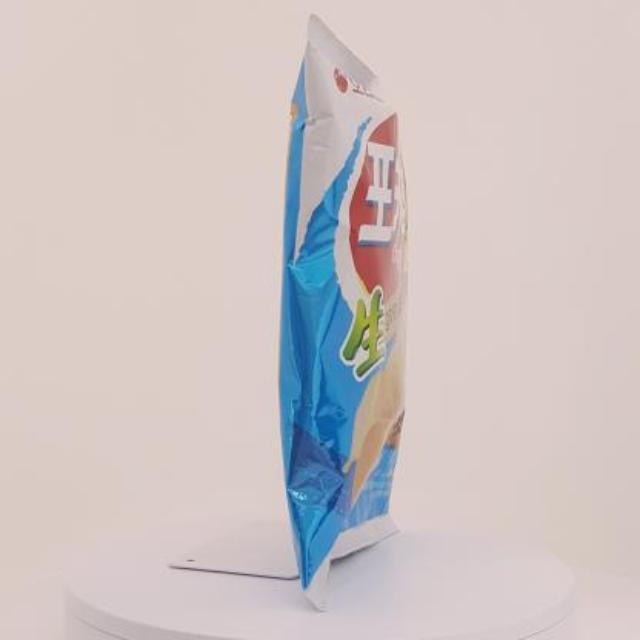snack_bag: (192, 1, 458, 616)
